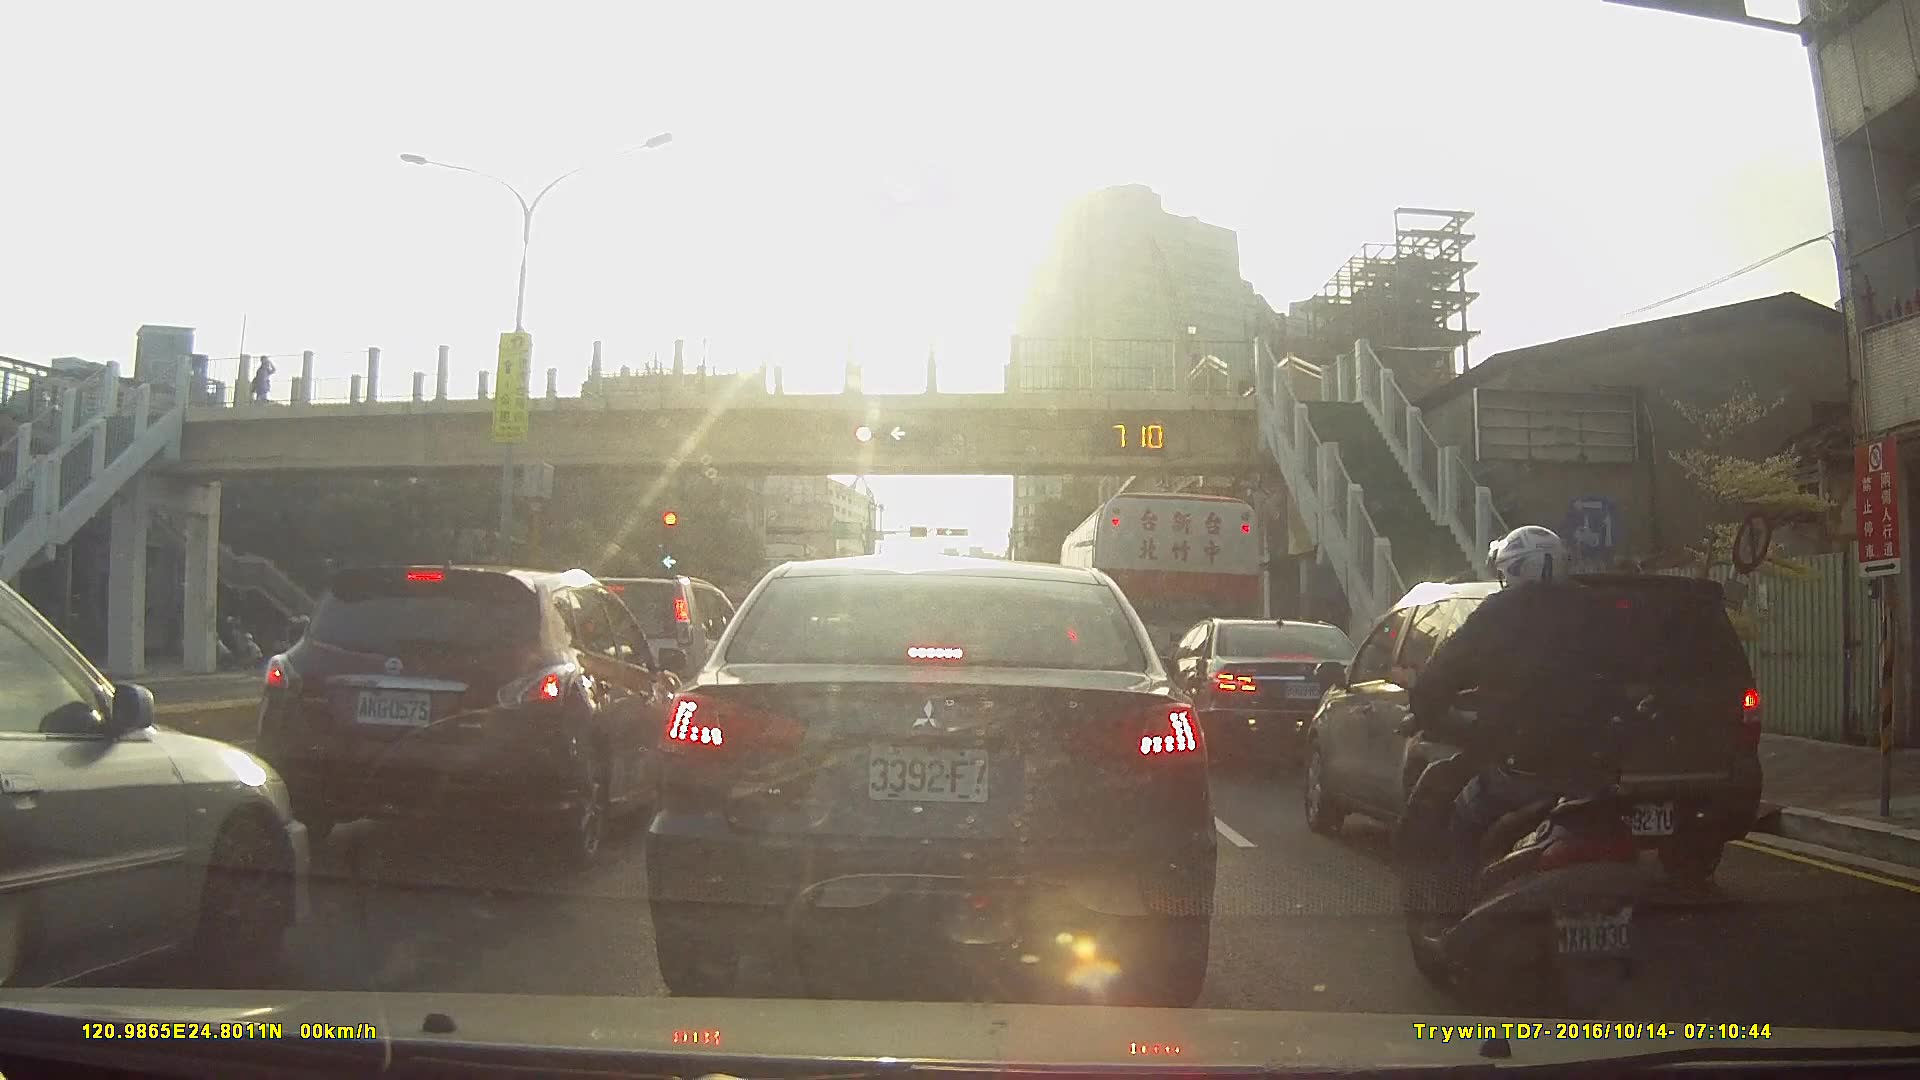pedestrian: (250, 357, 277, 411)
rider: (1398, 524, 1648, 1039), (209, 616, 267, 669)
vehicle: (643, 552, 1218, 1004), (1301, 568, 1763, 892), (248, 560, 693, 870), (0, 572, 314, 1004), (1055, 490, 1263, 722), (1154, 613, 1381, 768)
